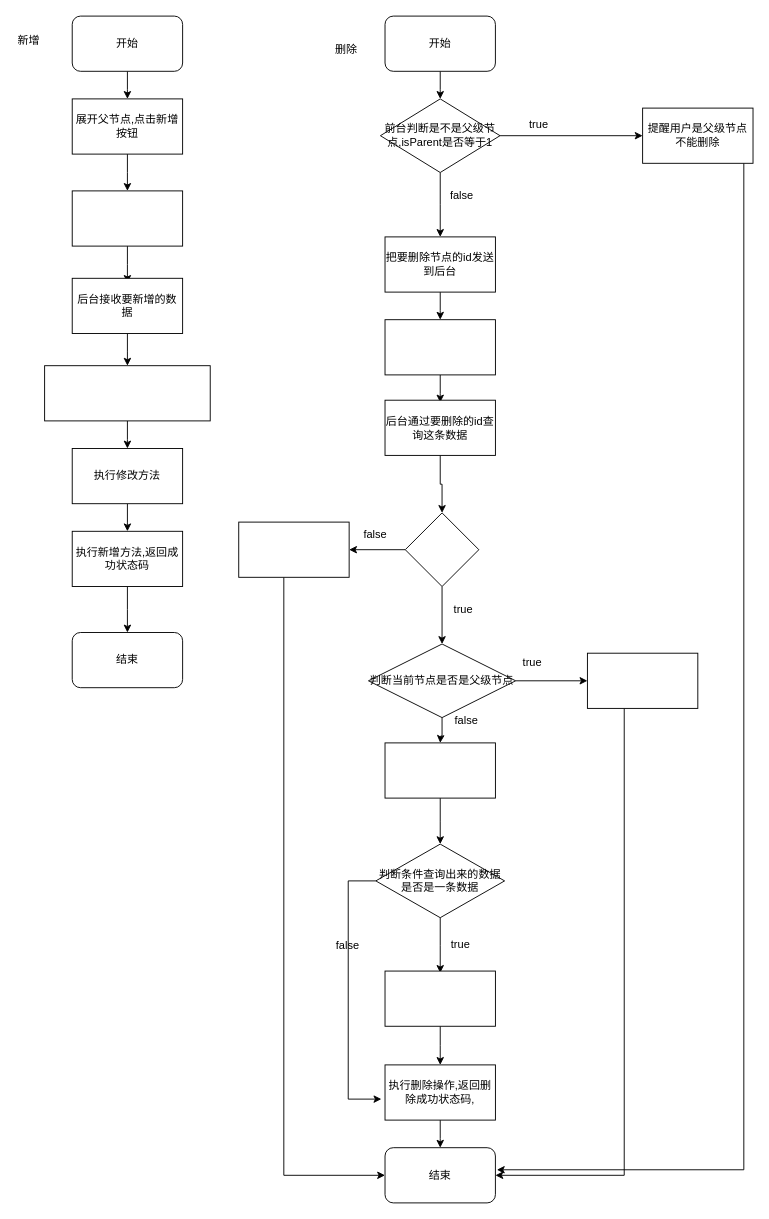
Some shapes in this 769 by 1219 pixel diagram are drawn without their labels. The shapes that lost their labels are listed below. From the top down, each one's centre as x and y in pixels, then its label:
At point 127,218: "把要新增的数据发送到台台".
At point 439,347: "后台接收要删除节点的id".
At point 127,393: "修改新增节点的父级节点,新增节点的pid就是父级节点的id, 将父级节点的isParent修改为1,变成是父级节点".
At point 293,549: "return 删除失败状态码,提醒用户当前的节点不存在".
At point 441,549: "判断是否存在数据".
At point 642,680: "return 删除失败状态码,提醒用户当前节点是父级节点,不能删除;".
At point 439,770: "构建条件查询,通过要删除数据的pid查询数据".
At point 439,998: "将删除节点的父级节点的isParent修改为0".
